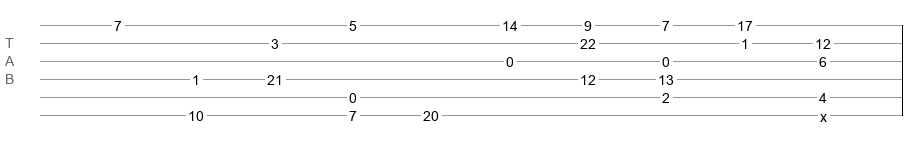0: (349, 90, 357, 100), (506, 54, 514, 64), (662, 54, 670, 64)
1: (192, 72, 200, 82), (741, 36, 749, 46)
10: (188, 108, 204, 118)
12: (580, 72, 596, 82), (815, 36, 831, 46)
13: (658, 72, 674, 82)
14: (502, 18, 518, 28)
17: (737, 18, 753, 28)
2: (662, 90, 670, 100)
20: (423, 108, 439, 118)
21: (267, 72, 283, 82)
22: (580, 36, 596, 46)
3: (271, 36, 279, 46)
4: (819, 90, 827, 100)
5: (349, 18, 357, 28)
6: (819, 54, 827, 64)
7: (114, 18, 122, 28), (349, 108, 357, 118), (662, 18, 670, 28)
9: (584, 18, 592, 28)
x: (820, 109, 827, 117)
